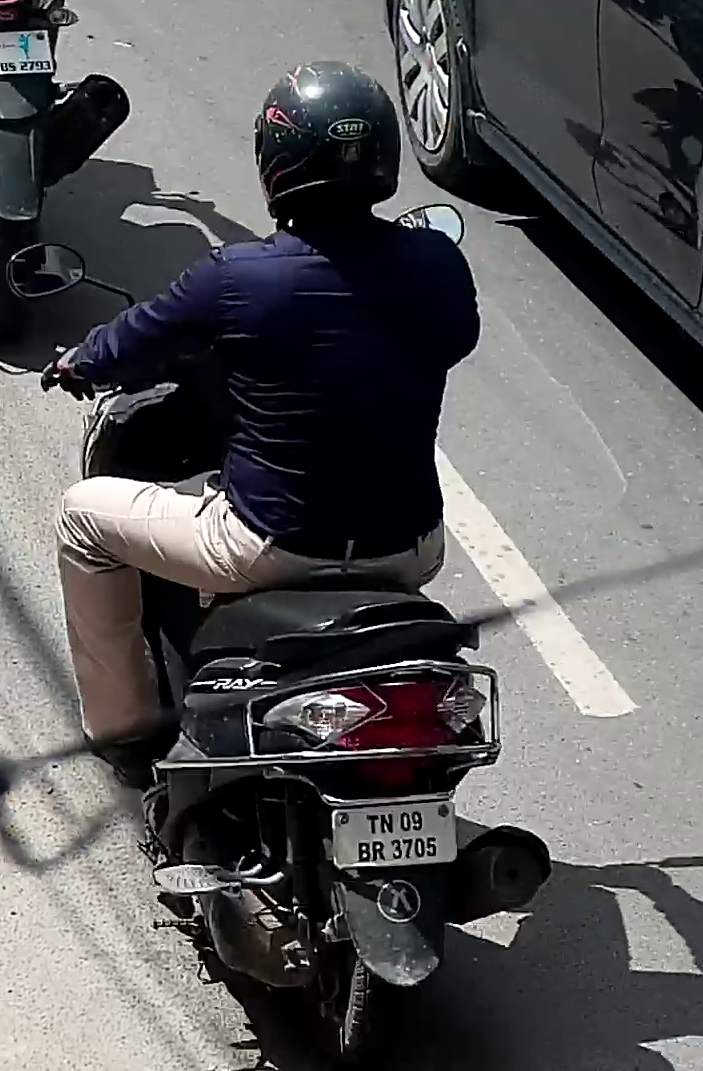0: (400, 811, 411, 832), (414, 837, 425, 858)
3: (390, 839, 402, 859)
5: (426, 836, 437, 857)
7: (402, 838, 413, 859)
9: (411, 811, 423, 831)
B: (357, 841, 371, 862)
N: (379, 813, 394, 834)
P16: (329, 799, 458, 874)
R: (371, 840, 386, 862)
T: (366, 814, 379, 834)
